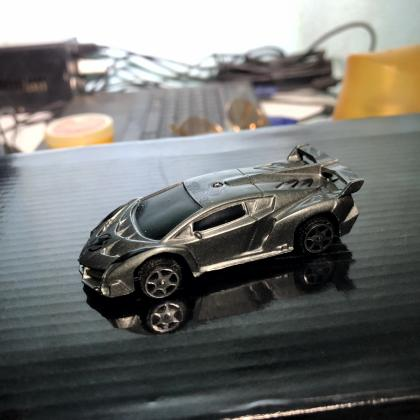Car: (73, 136, 370, 306)
